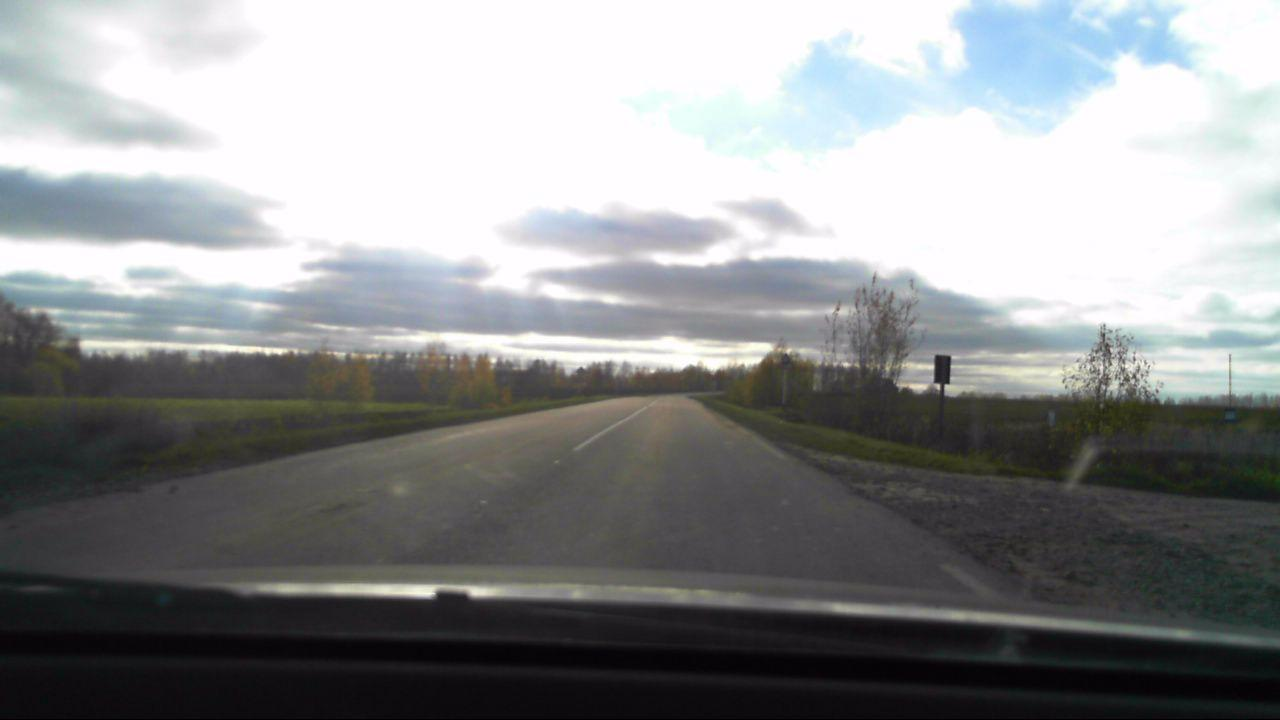1_12_1: (778, 353, 797, 370)
